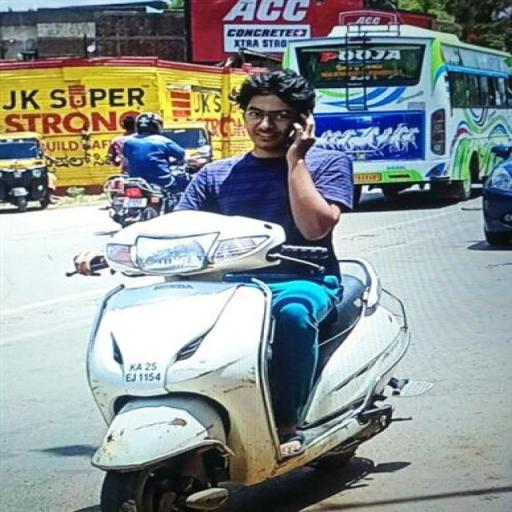using mobile: (284, 100, 332, 164)
